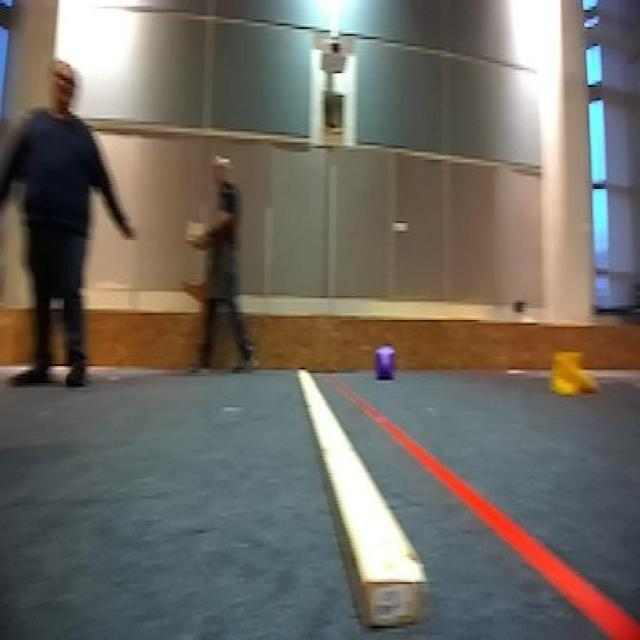frc_cone: (550, 352, 597, 400)
frc_cube: (373, 347, 397, 383)
